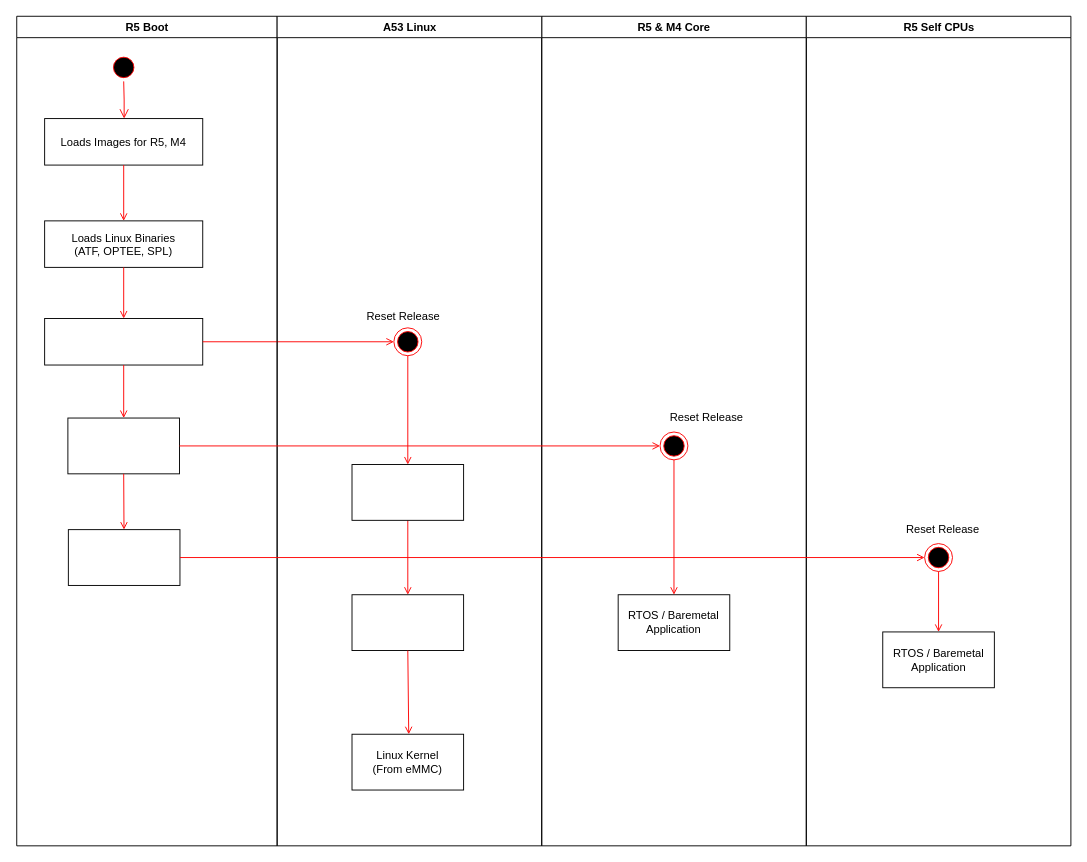
This 1087x862 diagram has some shape labels left out. The shapes that lost their labels are listed below. From the top down, each one's centre as x and y in pixels, then its label:
At point 123,341: "Run Linux CPU (A53) (With entry point to ATF)".
At point 123,445: "Run all CPUs (R5, M4) (Except self CPU)".
At point 407,492: "ATF / OPTEE / SPL".
At point 123,557: "Run Self CPUs".
At point 407,622: "uBoot (From eMMC)".
